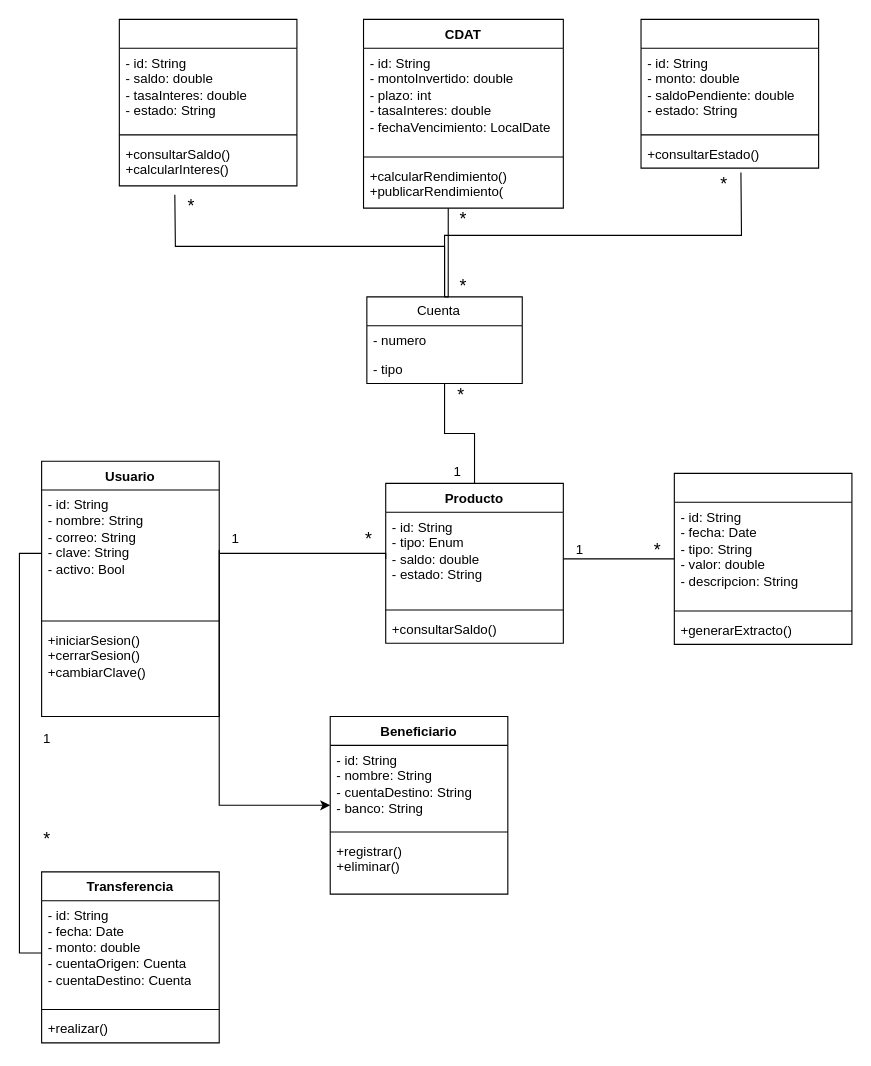
Some shapes in this 871 by 1066 pixel diagram are drawn without their labels. Here are the shapes that lost their labels. From the top down, the box of each, then its label:
(118, 18, 297, 186): Ahorro
(640, 18, 819, 168): Credito
(673, 472, 852, 644): Movimiento
